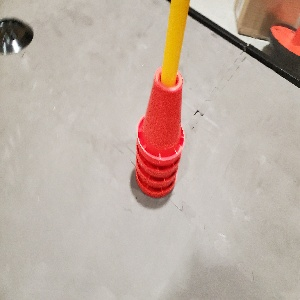Red_4: (131, 62, 186, 202)
